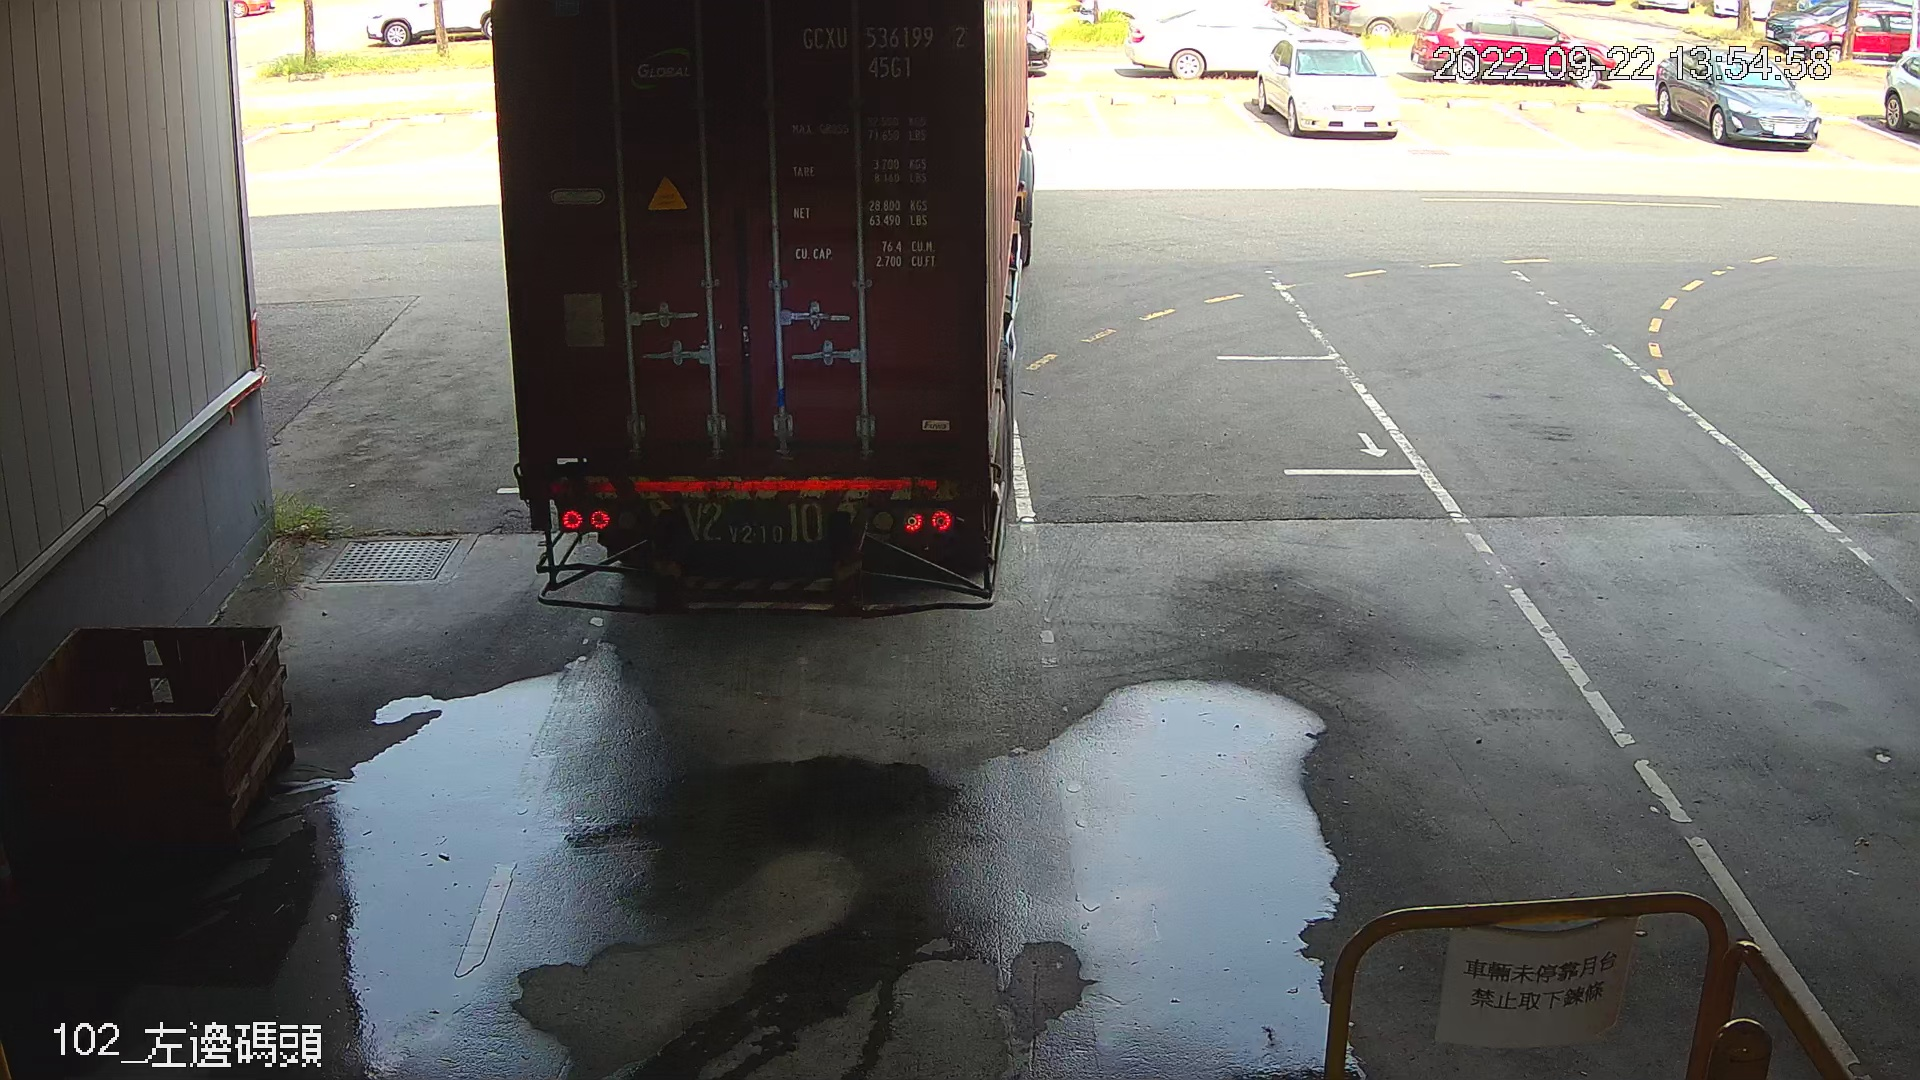container: (794, 11, 976, 88)
